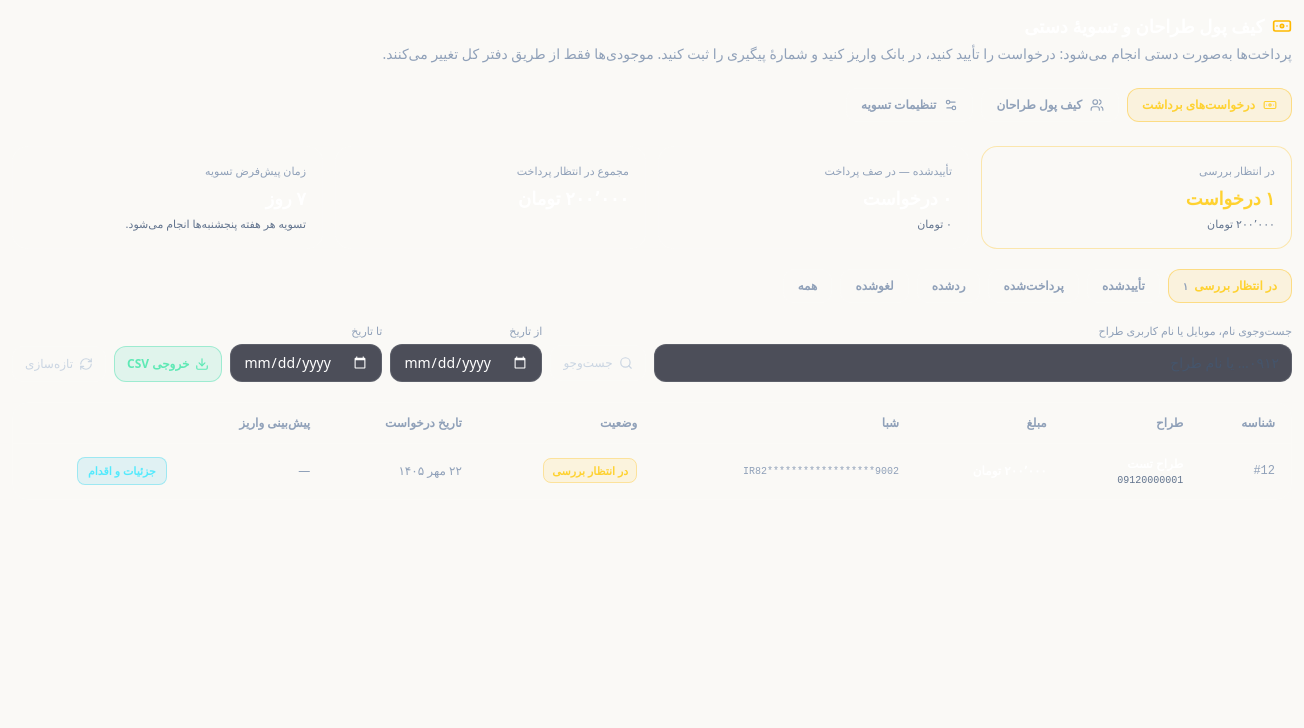
Scenario: AdminWalletTab — payout queue › renders the pending counters and the full sheba with a copy button
This screenshot has width=1304, height=728.
Click the button "جزئیات و اقدام".
click(122, 471)  # box [77,457,167,486]
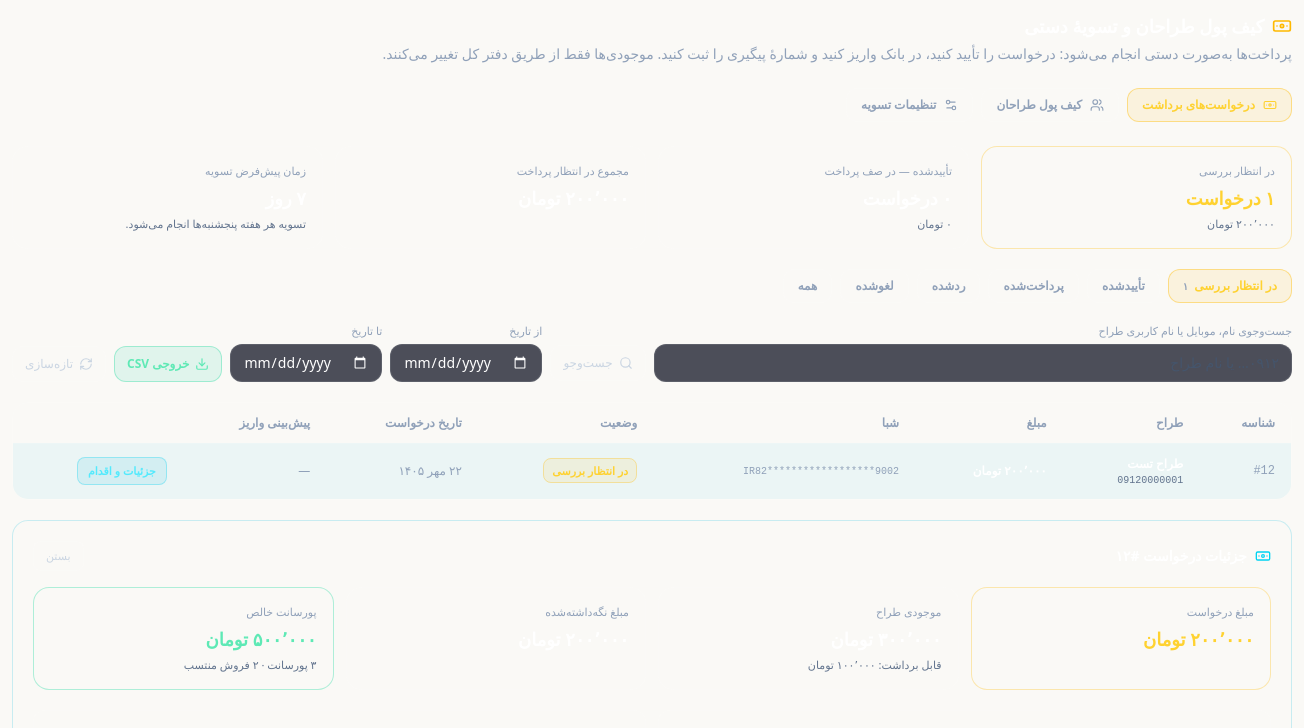
Expected: the text "۲۰۰٬۰۰۰ تومان" below "۱ درخواست" is shown, [1207,216,1275,230]
Result: the heading "جزئیات درخواست #۱۲" is shown at [1115,546,1271,566]
